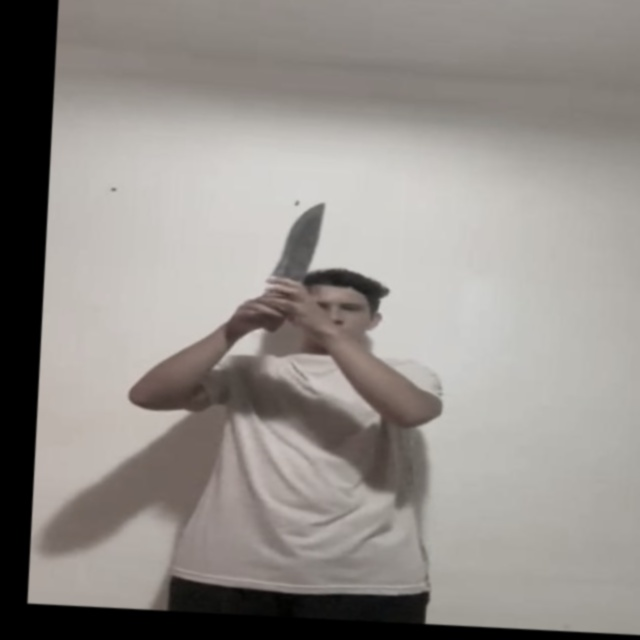Sharp-Object: (278, 197, 331, 280)
